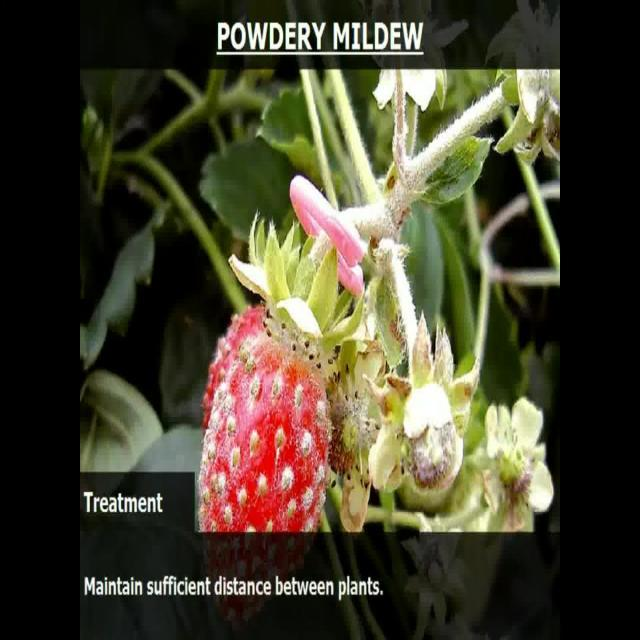Oído: (192, 308, 320, 530)
